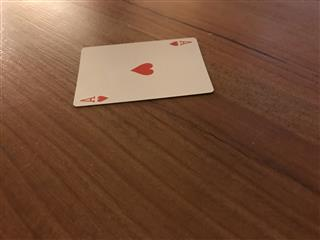AceOfHearts: (72, 36, 214, 106)
